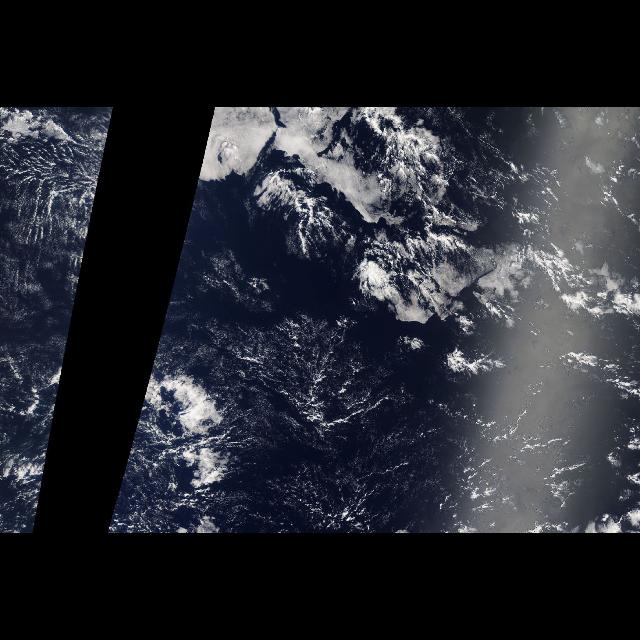Flower: (189, 110, 541, 344)
Sugar: (201, 303, 421, 533), (0, 150, 102, 440)
